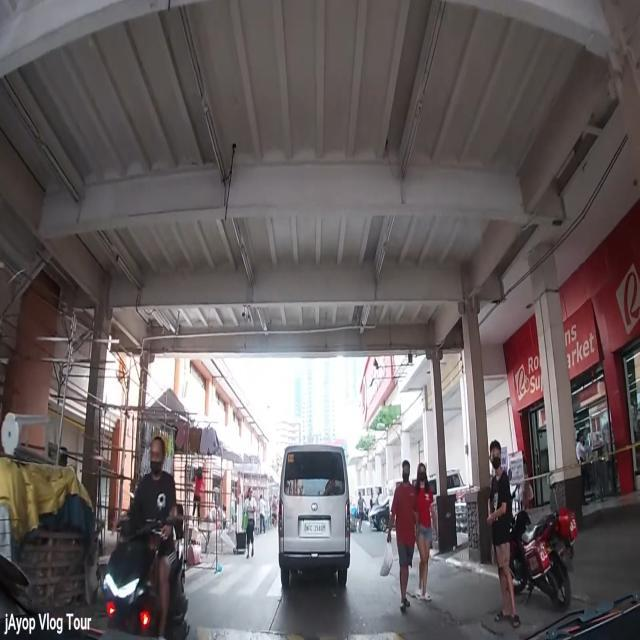car: (278, 446, 350, 592), (369, 497, 390, 532)
motorcycle: (104, 435, 192, 640), (510, 482, 578, 612)
